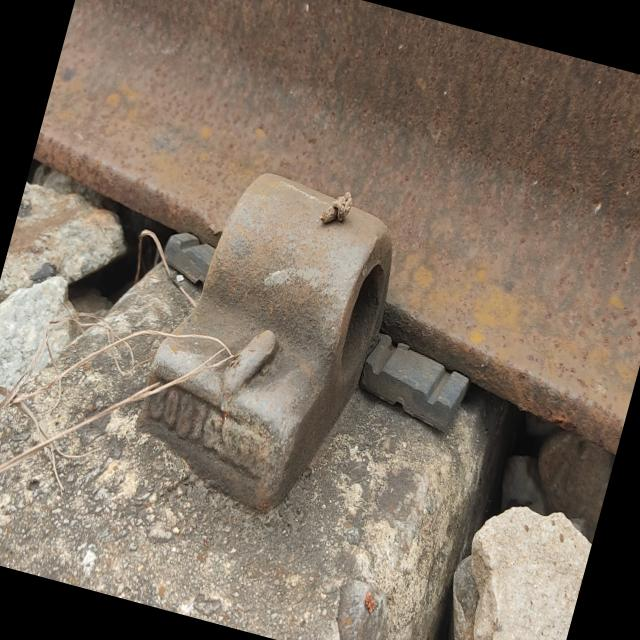track_bolt_missing: (185, 147, 418, 389)
